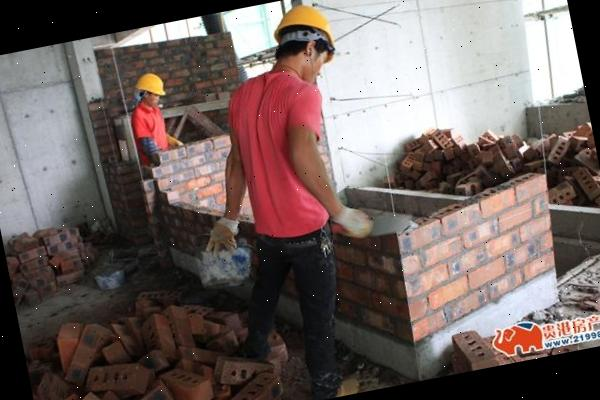helmet: (264, 0, 349, 68), (132, 68, 169, 98)
no_wear: (220, 64, 344, 242), (126, 99, 172, 163)
